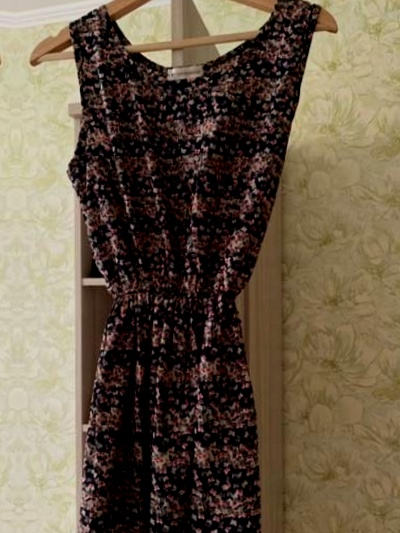Dress: (52, 0, 352, 533)
